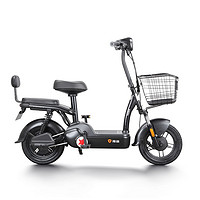MNV: (11, 38, 182, 166)
